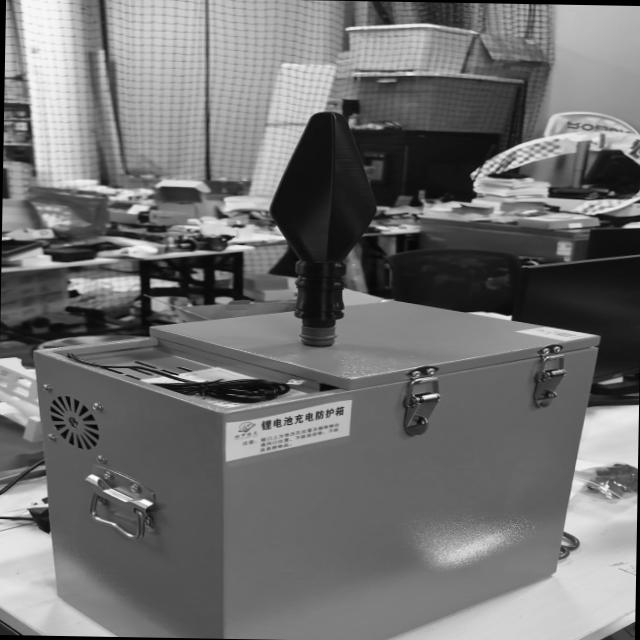base: (298, 323, 338, 347)
